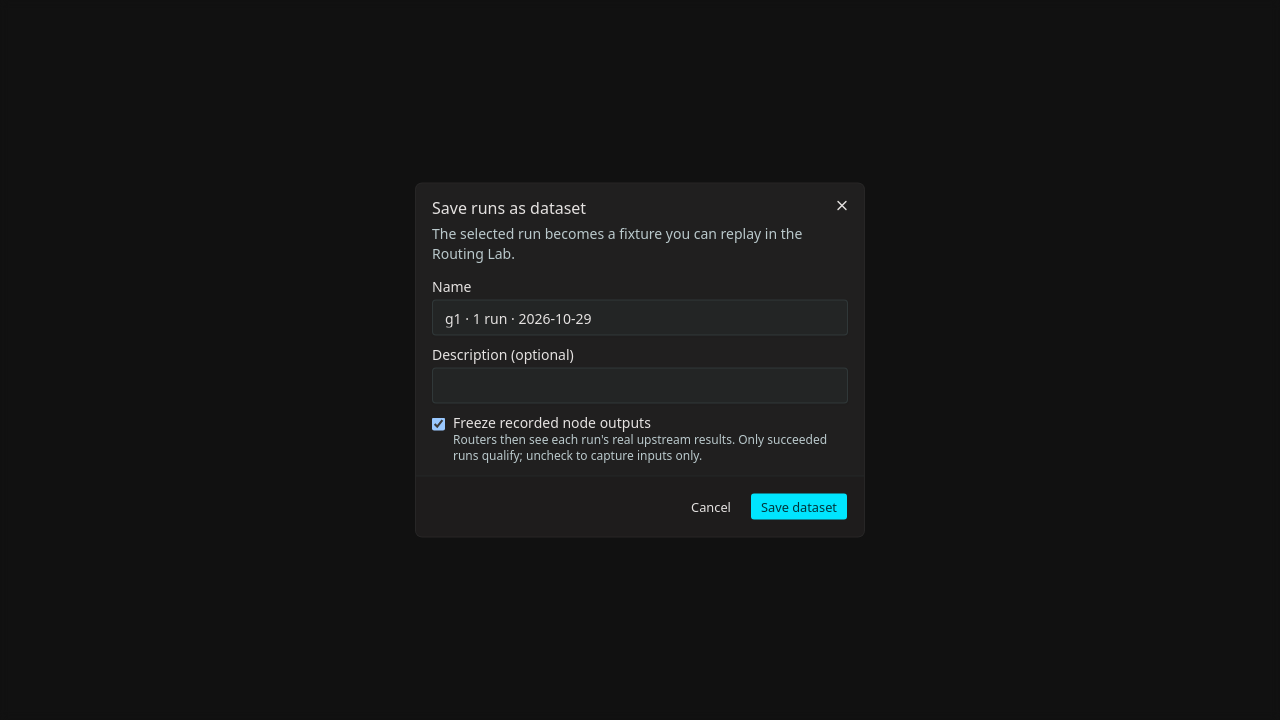
Test: CaptureDatasetDialog › shows the backend's error detail when saving fails
Click the button "Save dataset". click: (799, 506)
box: x1=750 y1=492 x2=848 y2=520
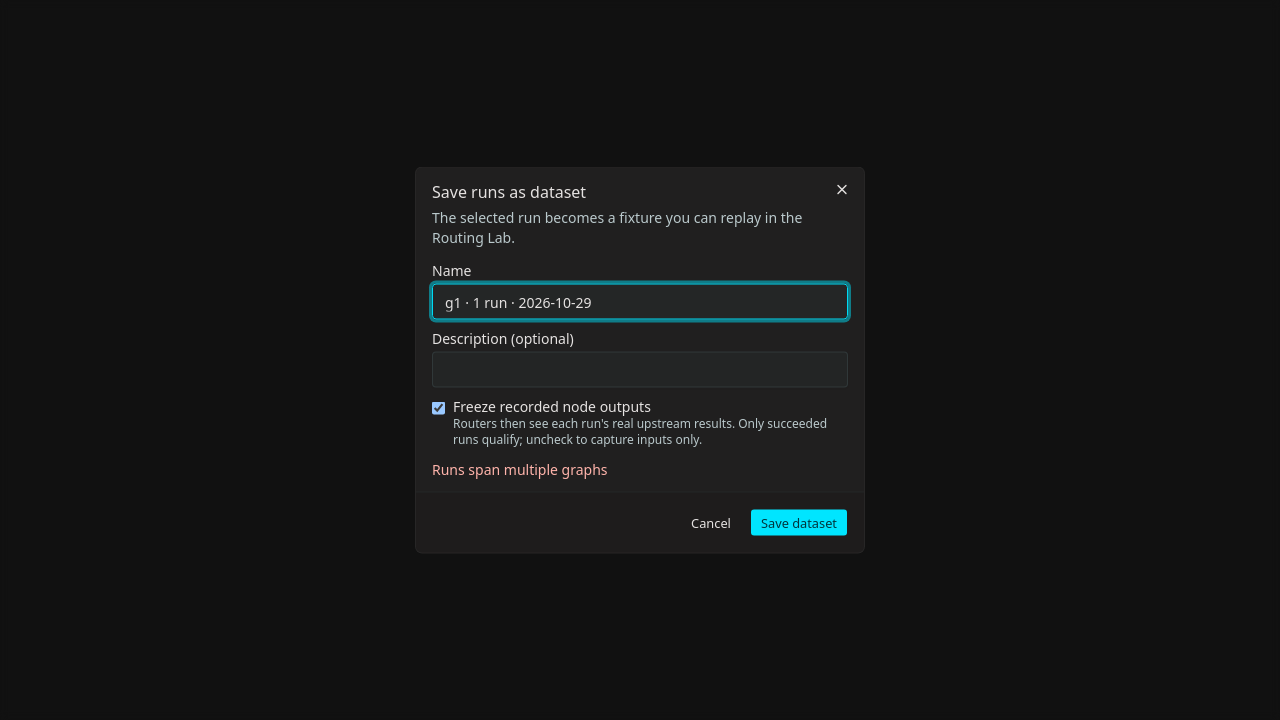
Check: the message reads "Runs span multiple graphs", box x1=432 y1=460 x2=608 y2=478
